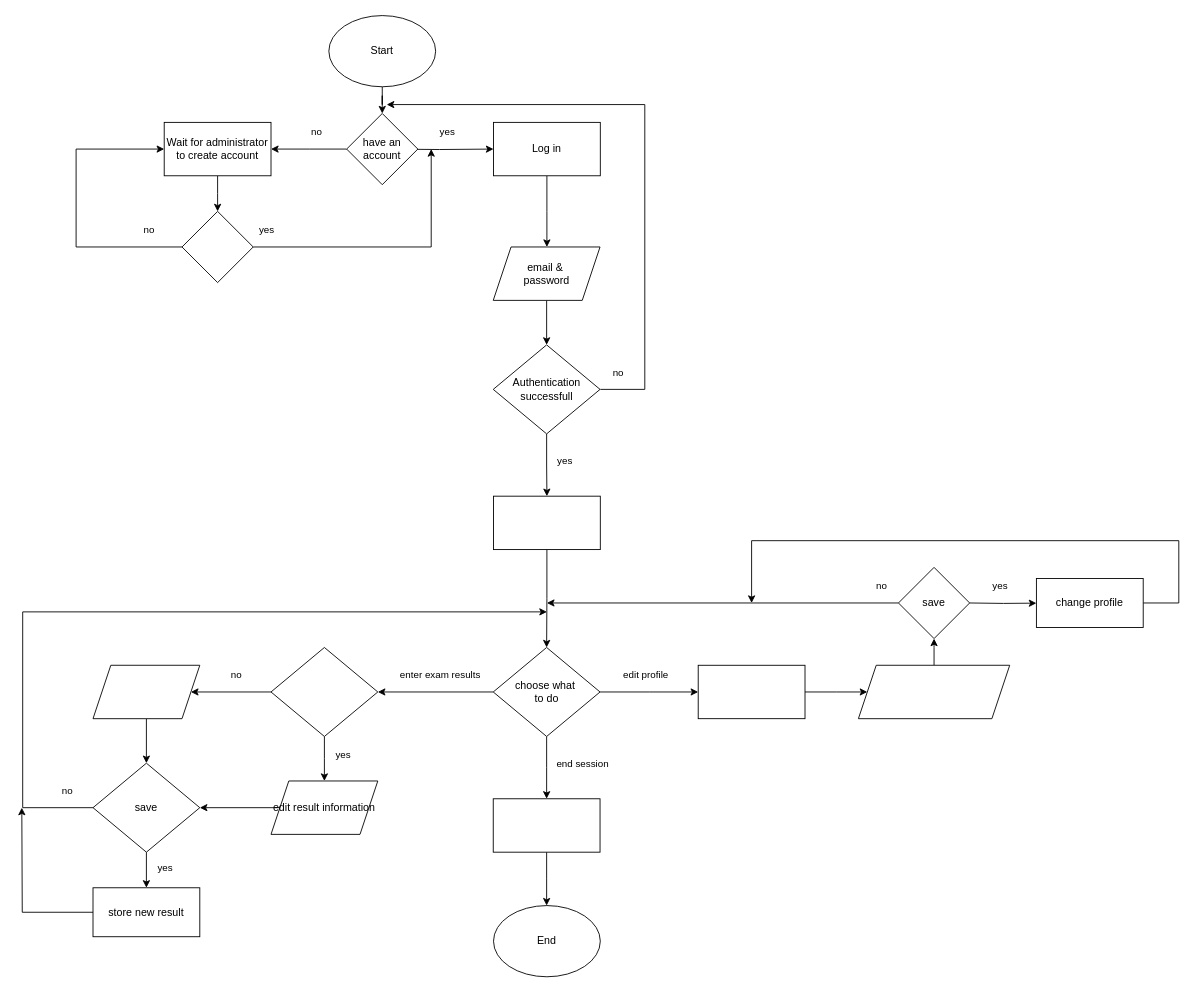
This 1202x992 diagram has some shape labels left out. Each missing label, with the centre of its shape:
Created: point 217,246
log off: point 546,825
personal information inside of the fileds: point 934,691
result exists already: point 324,691
result information: point 146,691
show main page: point 546,522
show profile information: point 751,691
